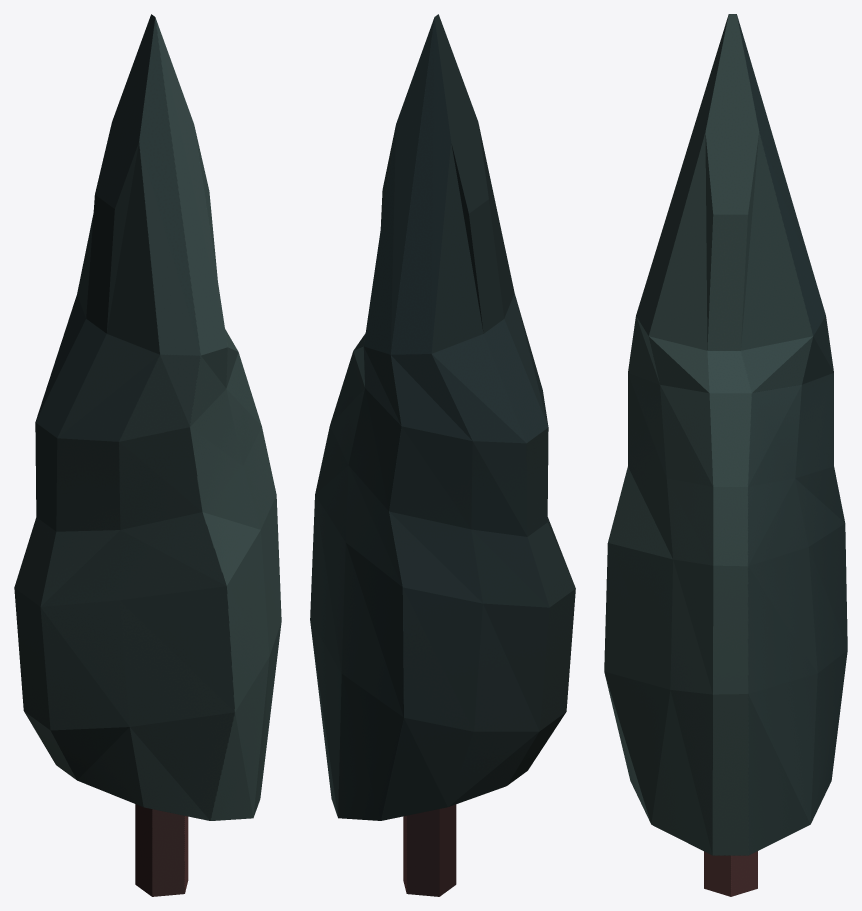
The model's file is Cypress1.obj.
3 views of the same model, side by side, from view 1: azimuth 30°, elevation 25°; view 2: azimuth 150°, elevation 25°; view 3: azimuth 270°, elevation 25° (orthographic).
Visible parts, largest first — view 1: Cypress1; view 2: Cypress1; view 3: Cypress1.
Boxes of the visible parts, x1,y1,x2,y2 form: Cypress1: (14, 14, 281, 896); Cypress1: (310, 14, 575, 896); Cypress1: (604, 14, 847, 896).
Size of the model in its own units: 4.34 by 14.8 by 3.77.
Materials: 1 (1 with a texture image).
